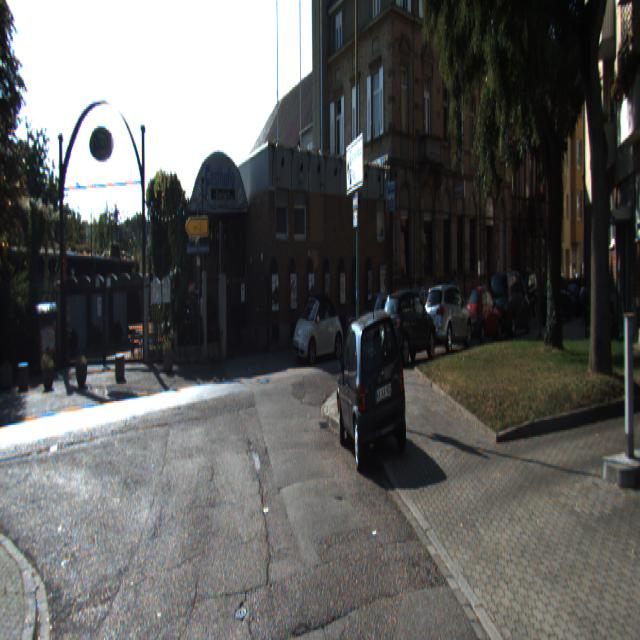Car: (336, 306, 409, 464), (379, 285, 438, 370), (292, 290, 343, 364), (424, 281, 474, 354), (489, 269, 533, 337), (466, 284, 503, 344)
